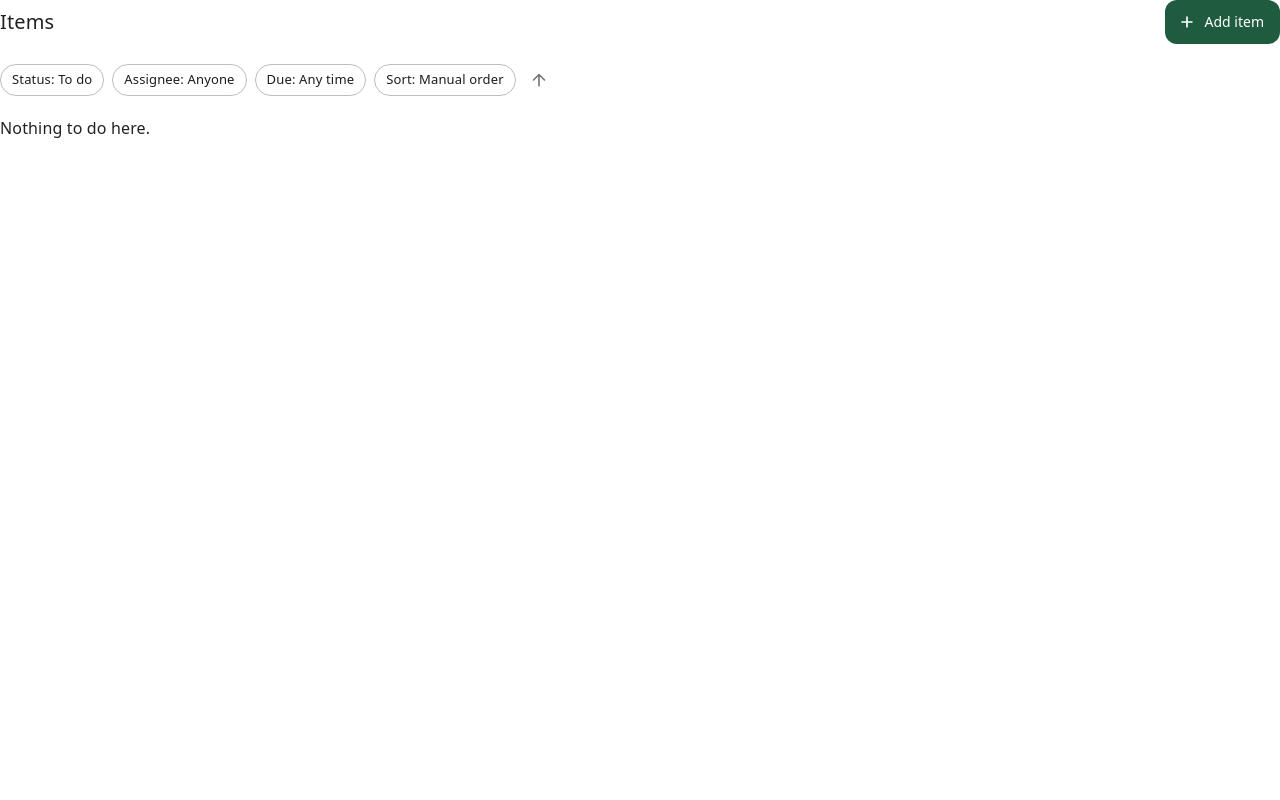
Test: ItemsSection › asks only for the fields the list declared
This screenshot has width=1280, height=800.
Click the button "Add item": (1222, 22) x1=1164 y1=0 x2=1279 y2=44
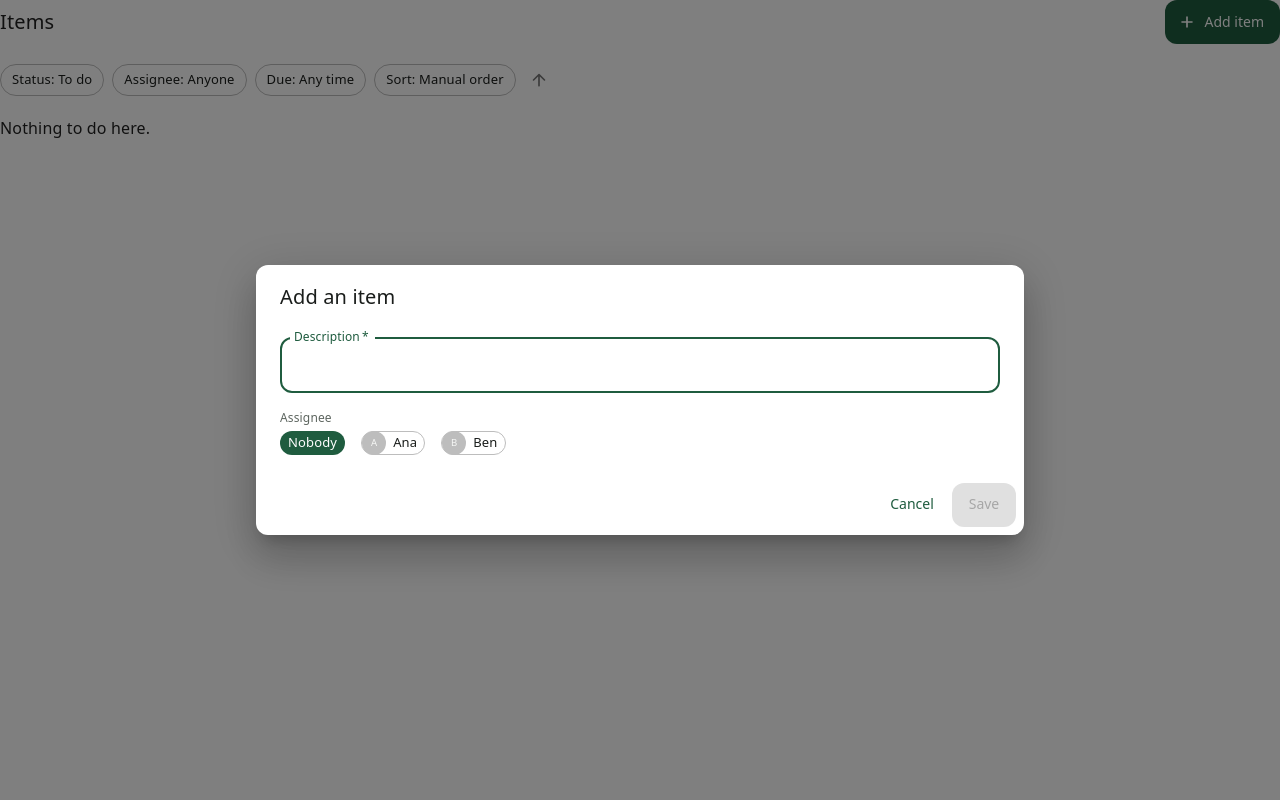
Now the field labelled "Description" is shown, box x1=280 y1=337 x2=1000 y2=393
Now the button "A Ana" is shown, box x1=361 y1=431 x2=425 y2=455
